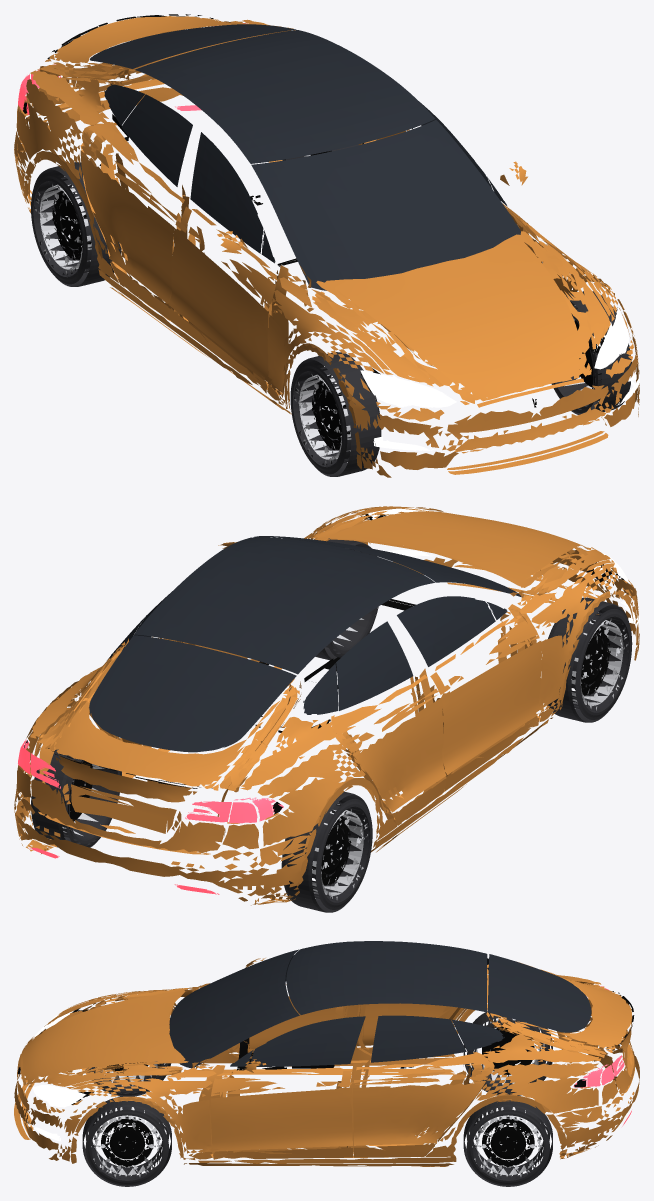
The model's file is models.glb.
The picture shows the model from 3 angles, top to bottom: view 1: azimuth 30°, elevation 25°; view 2: azimuth 150°, elevation 25°; view 3: azimuth 270°, elevation 25°; orthographic projection. The views are drawn at different scales.
Parts seen in each view (by area): view 1: models_body, models_wheel_FR.001, models_wheel_RR.001, models_wheel_FL.001; view 2: models_body, models_wheel_RR.001, models_wheel_FR.001, models_wheel_RL.001, models_wheel_FL.001; view 3: models_body, models_wheel_FL.001, models_wheel_RL.001, models_wheel_RR.001, models_wheel_FR.001.
Part boxes in pixels (<box>): models_body: <box>14,14,639,477</box>; models_wheel_FR.001: <box>290,352,381,476</box>; models_wheel_RR.001: <box>31,162,121,286</box>; models_wheel_FL.001: <box>551,291,631,414</box>; models_body: <box>14,506,639,905</box>; models_wheel_RR.001: <box>281,791,372,912</box>; models_wheel_FR.001: <box>547,597,632,722</box>; models_wheel_RL.001: <box>31,749,121,847</box>; models_wheel_FL.001: <box>315,538,378,660</box>; models_body: <box>14,941,639,1167</box>; models_wheel_FL.001: <box>82,1096,171,1186</box>; models_wheel_RL.001: <box>463,1100,552,1186</box>; models_wheel_RR.001: <box>463,1011,552,1095</box>; models_wheel_FR.001: <box>85,1061,171,1096</box>.
Size of the model in its own units: 2.06 by 1.47 by 4.95.
